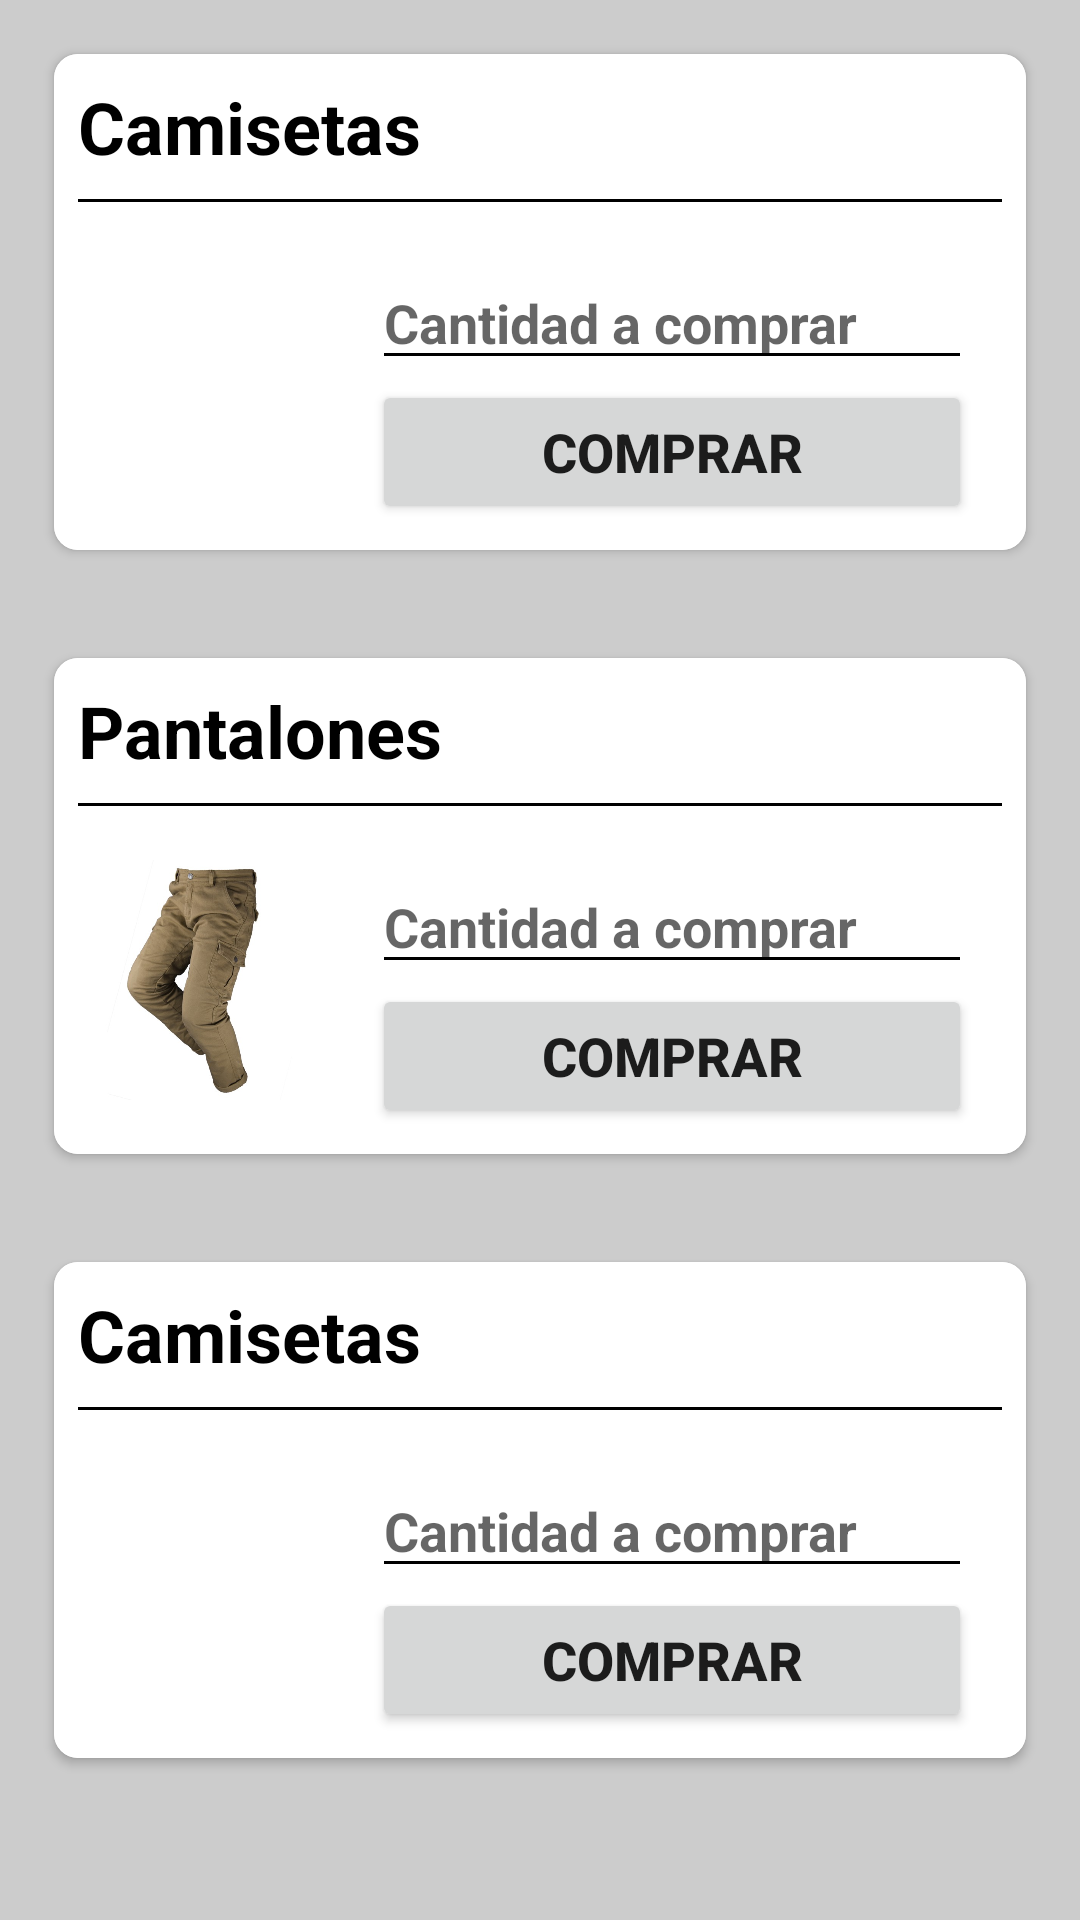

Locate icon controls on the screen. Image size 1080 × 1920, boxes as (x1, y1, x2, y2).
pants: (127, 868, 259, 1093)
